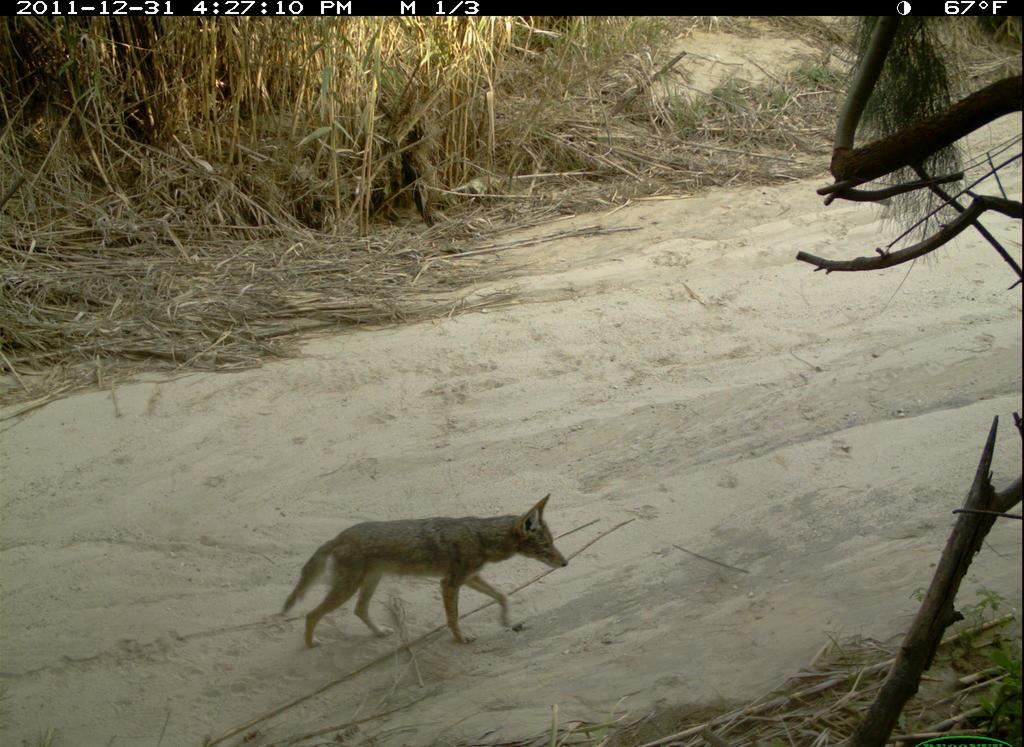coyote: (281, 491, 577, 648)
